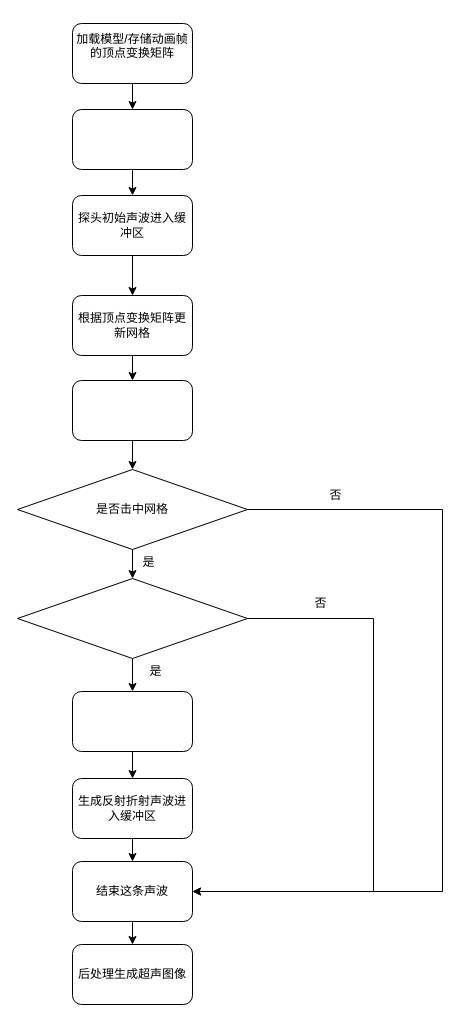
Image size: 468x1022. Some labels were removed from this diagram. The centre of each missing label's shape, as x and y in pixels:
创建缓冲区: the point at 132,139
声波强度是否大于结束阈值: the point at 132,618
存储声波信息: the point at 132,721
缓冲区碰撞检测: the point at 132,410
